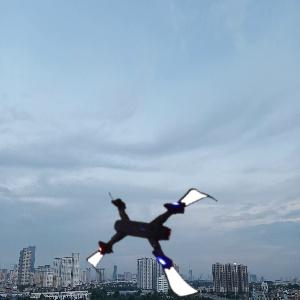drone: (97, 172, 220, 295)
